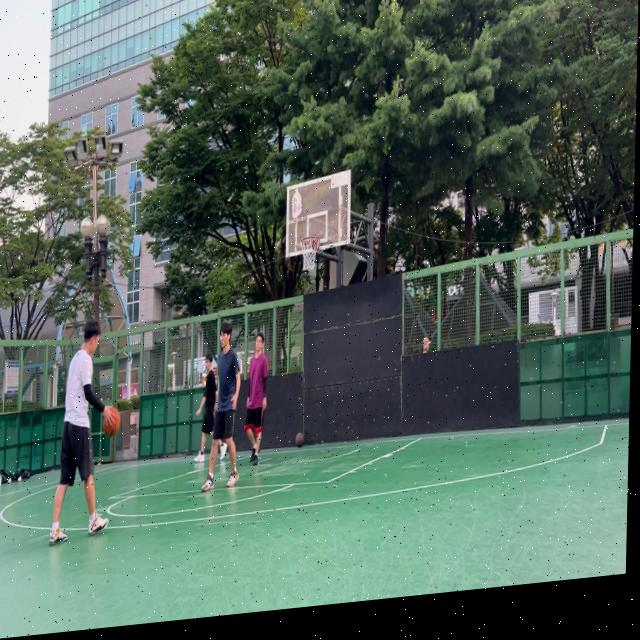basketball: (103, 404, 120, 438)
hoop: (299, 234, 320, 271)
